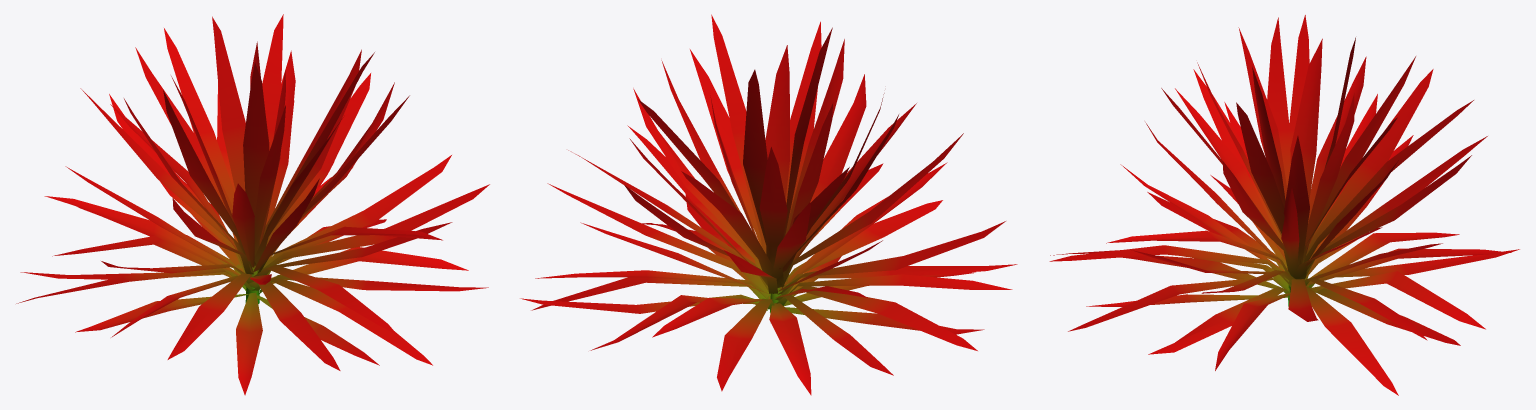
The model's file is SM_Bush02_LOD1.fbx.
The picture shows the model from 3 angles, left to right: view 1: azimuth 30°, elevation 25°; view 2: azimuth 150°, elevation 25°; view 3: azimuth 270°, elevation 25°; orthographic projection. The views are drawn at different scales.
Parts seen in each view (by area): view 1: _taka_Var12_LOD5; view 2: _taka_Var12_LOD5; view 3: _taka_Var12_LOD5.
Part boxes in pixels (x1,y1,x2,y2): _taka_Var12_LOD5: (16, 14, 489, 395); _taka_Var12_LOD5: (520, 14, 1017, 395); _taka_Var12_LOD5: (1049, 15, 1519, 395).
Bounding box in the file's own units: 93 × 55.92 × 89.88.
